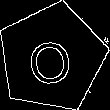O_N: (27, 29, 77, 86)
